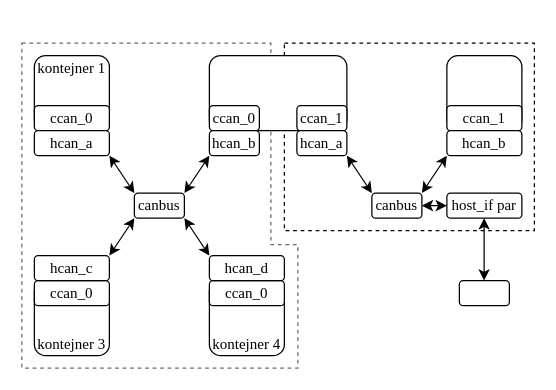
Image size: 556x390. Some labels were removed from this diagram. The box of each missing label's shape, as (x1, y1, x2, y2) in pixels:
host_if: (458, 279, 509, 306)
kontejner 2: (208, 54, 347, 131)
kontejner 5: (446, 54, 522, 131)
mreža A: (21, 42, 322, 368)
mreža B: (283, 42, 534, 231)
